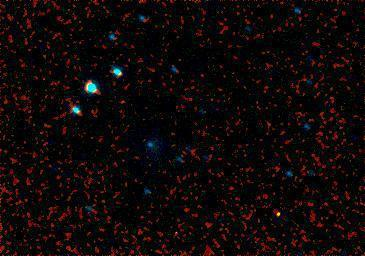star: (258, 205, 288, 235)
